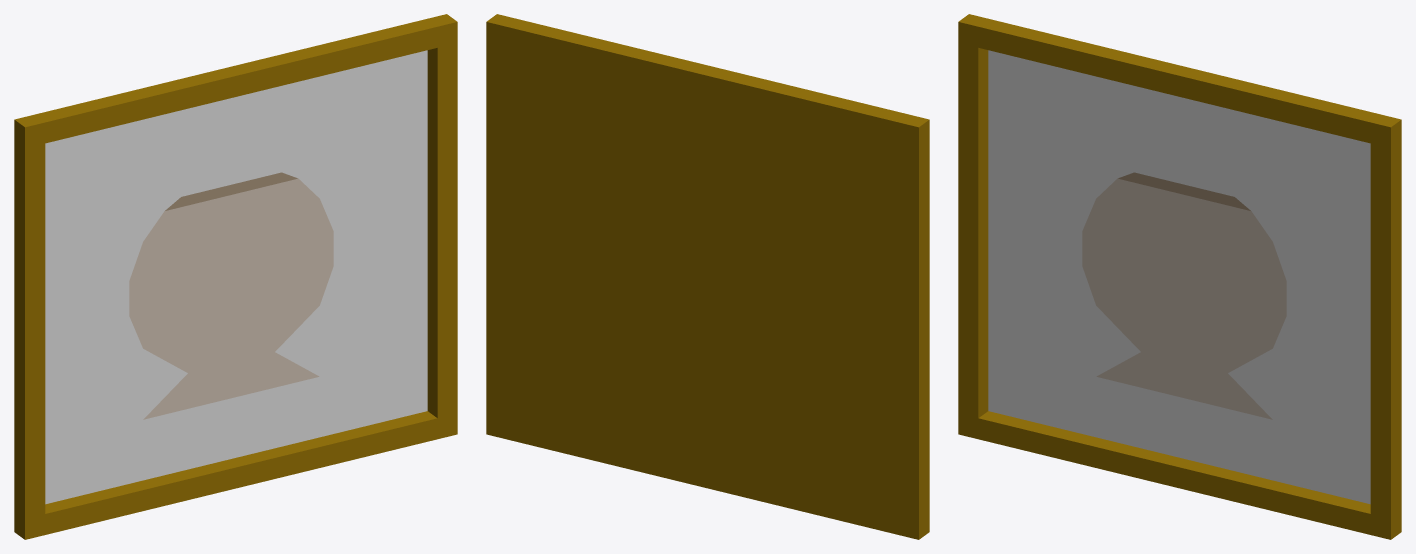
File: Cuadro 1.fbx
The picture shows the model from 3 angles, left to right: view 1: azimuth 30°, elevation 25°; view 2: azimuth 150°, elevation 25°; view 3: azimuth 330°, elevation 25°; orthographic projection.
Parts seen in each view (by area): view 1: Cuadro; view 2: Cuadro; view 3: Cuadro.
Part boxes in pixels (box(x1,y1,x2,y2)): Cuadro: box(14, 14, 457, 539); Cuadro: box(486, 14, 929, 539); Cuadro: box(958, 14, 1401, 539).
Size of the model in its own units: 2.52 by 2.29 by 0.108.
